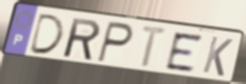D: (27, 12, 67, 56)
E: (164, 31, 205, 73)
K: (200, 34, 235, 78)
P: (95, 20, 135, 66)
R: (62, 17, 102, 63)
T: (139, 24, 170, 70)
